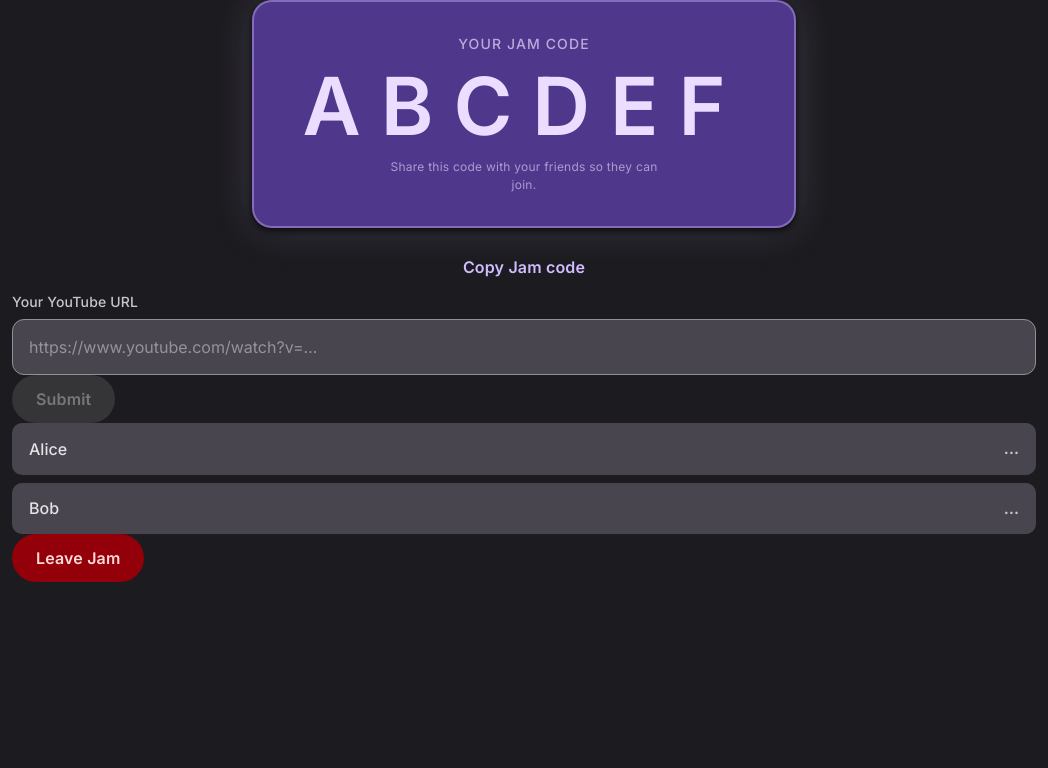
Scenario: SubmissionComponent › shows an error message when leaveJam rejects
Click the button "Leave Jam" at [78, 558], box [12,534,144,582]
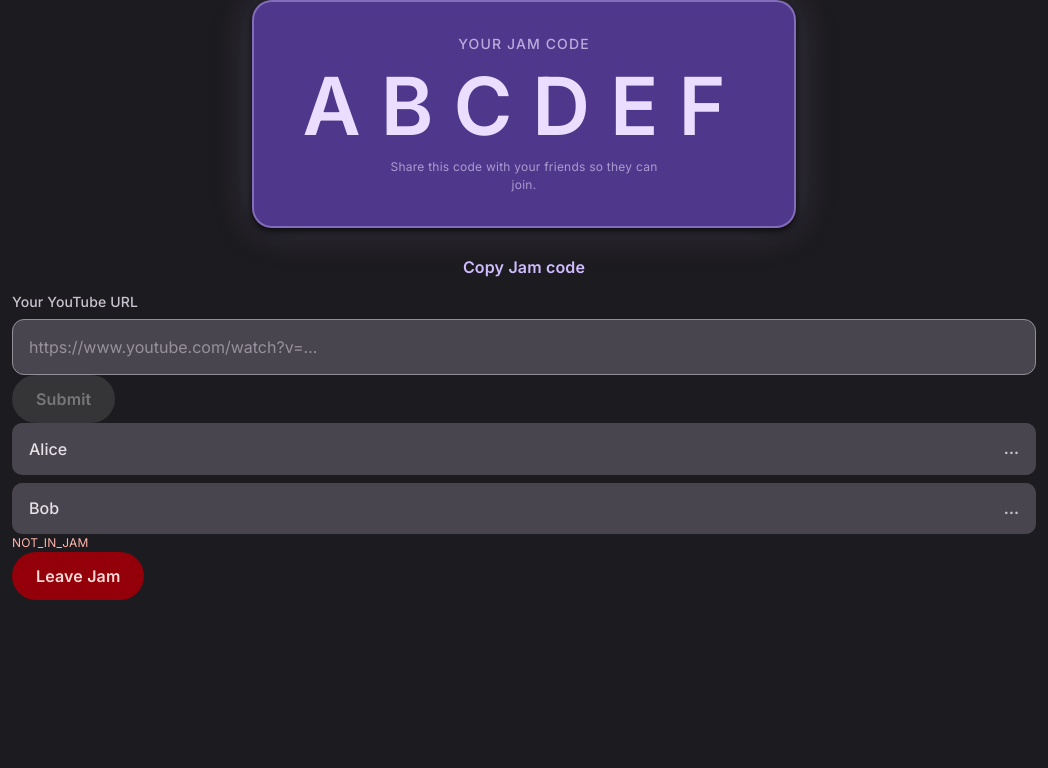
Expected: the text "NOT_IN_JAM" is shown, [12,535,89,550]
